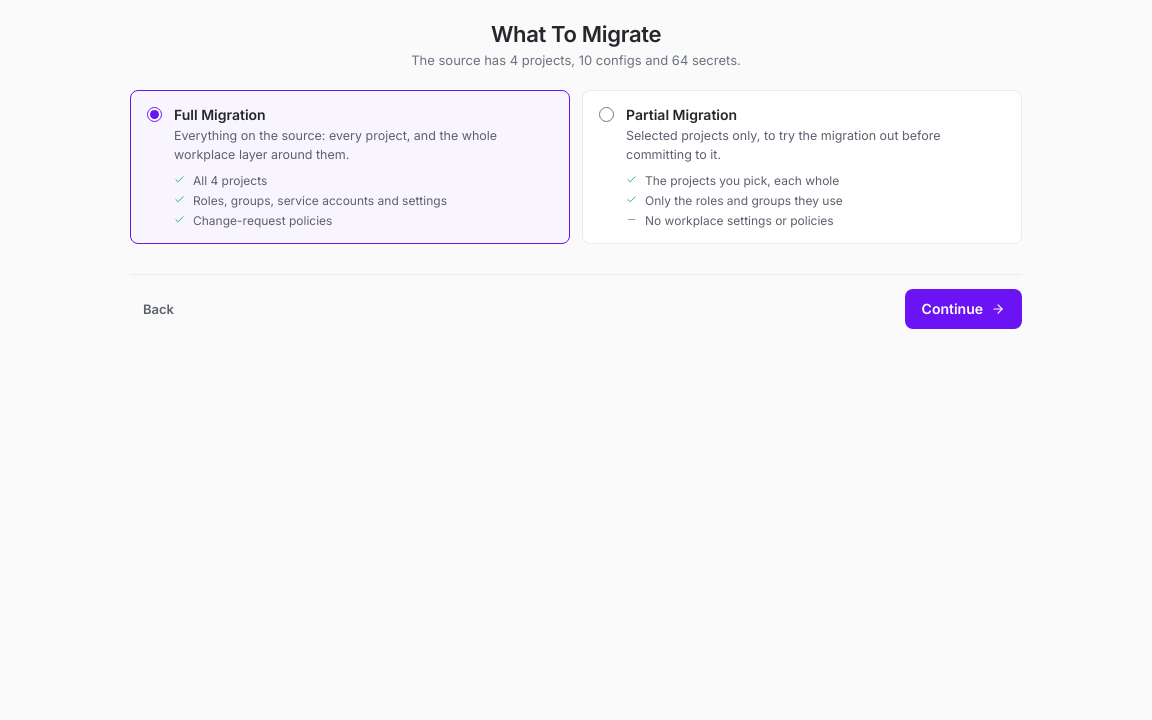
Test case: ScopePage › opens the picker for a partial, and waits for a project
This screenshot has width=1152, height=720.
Click the radio button labelled "Partial Migration" at {"x": 606, "y": 114}, box [599, 107, 614, 122]
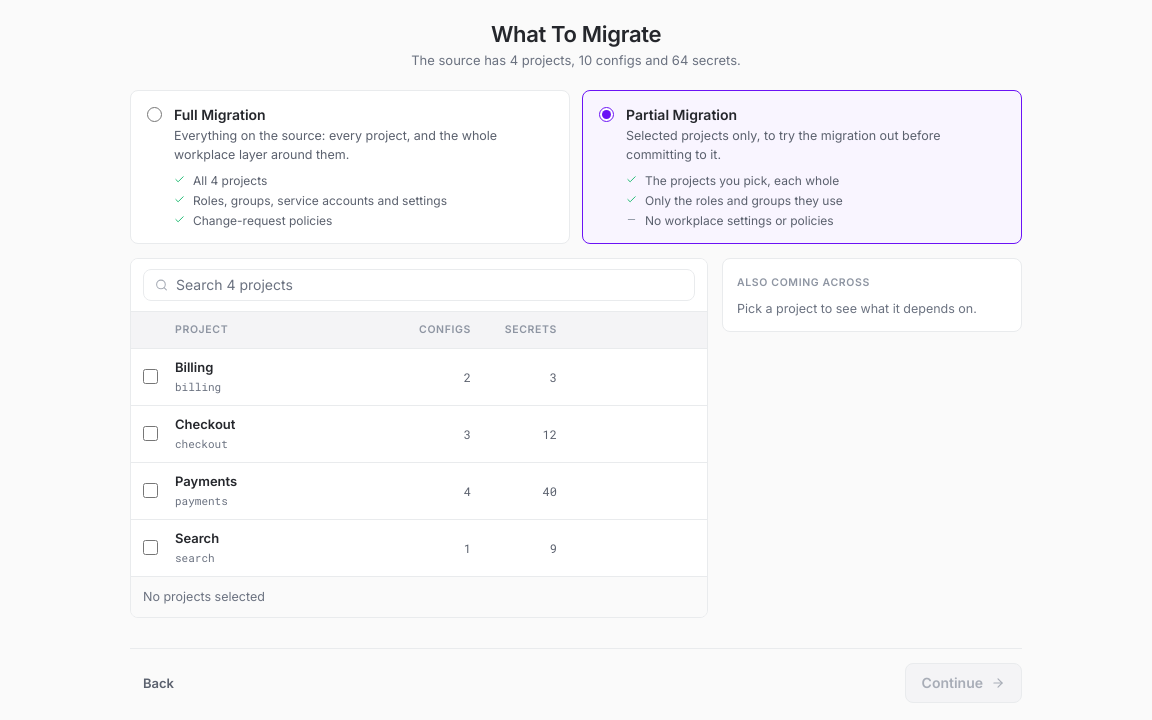
expect the field with placeholder "Search 4 projects" is shown: met, box [143, 268, 695, 300]
expect the button "Continue" is disabled: met, box [905, 662, 1022, 702]
